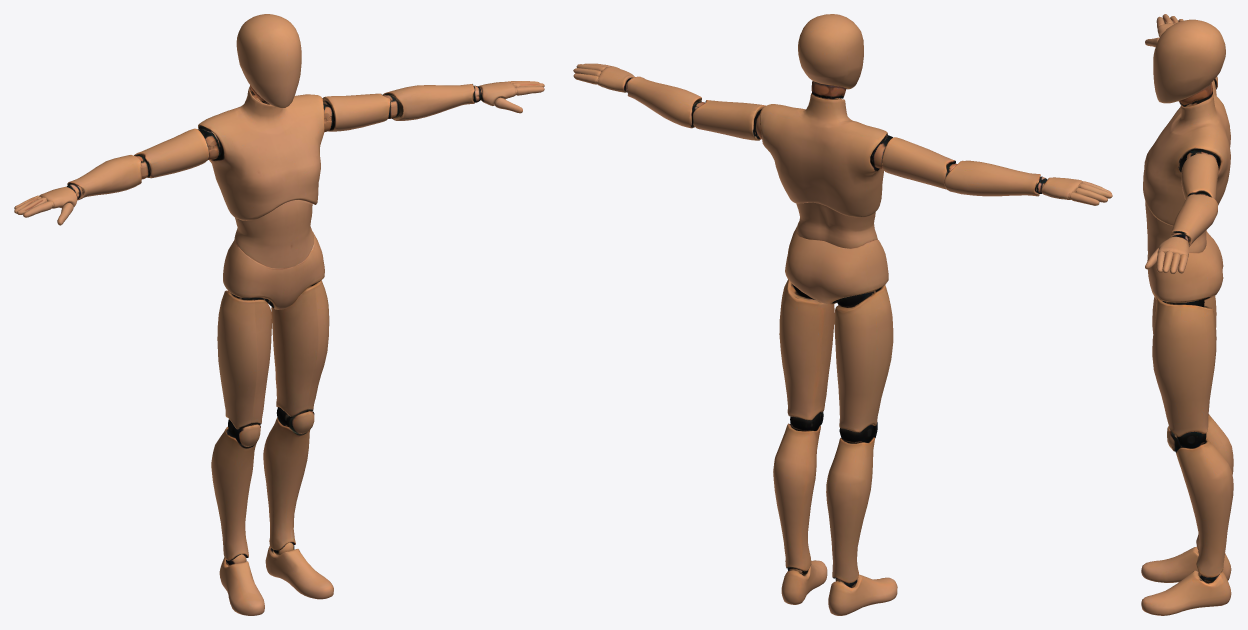
The model's file is toonstudio_stylized_mannequin.glb.
The picture shows the model from 3 angles, left to right: view 1: azimuth 30°, elevation 25°; view 2: azimuth 150°, elevation 25°; view 3: azimuth 270°, elevation 25°; orthographic projection.
Visible parts, largest first — view 1: tripo_6c5e4885_5791_44ad_ae7c_d88d5fb7cd0f; view 2: tripo_6c5e4885_5791_44ad_ae7c_d88d5fb7cd0f; view 3: tripo_6c5e4885_5791_44ad_ae7c_d88d5fb7cd0f.
Boxes of the visible parts, x1,y1,x2,y2 form: tripo_6c5e4885_5791_44ad_ae7c_d88d5fb7cd0f: (14,14,544,615); tripo_6c5e4885_5791_44ad_ae7c_d88d5fb7cd0f: (573,14,1112,615); tripo_6c5e4885_5791_44ad_ae7c_d88d5fb7cd0f: (1141,14,1233,615).
Size of the model in its own units: 1.69 by 1.75 by 0.2573.
1 material, 1 textured.
